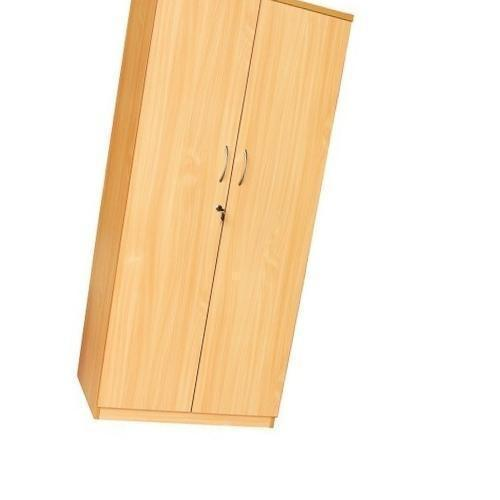Armario: (73, 2, 351, 431)
